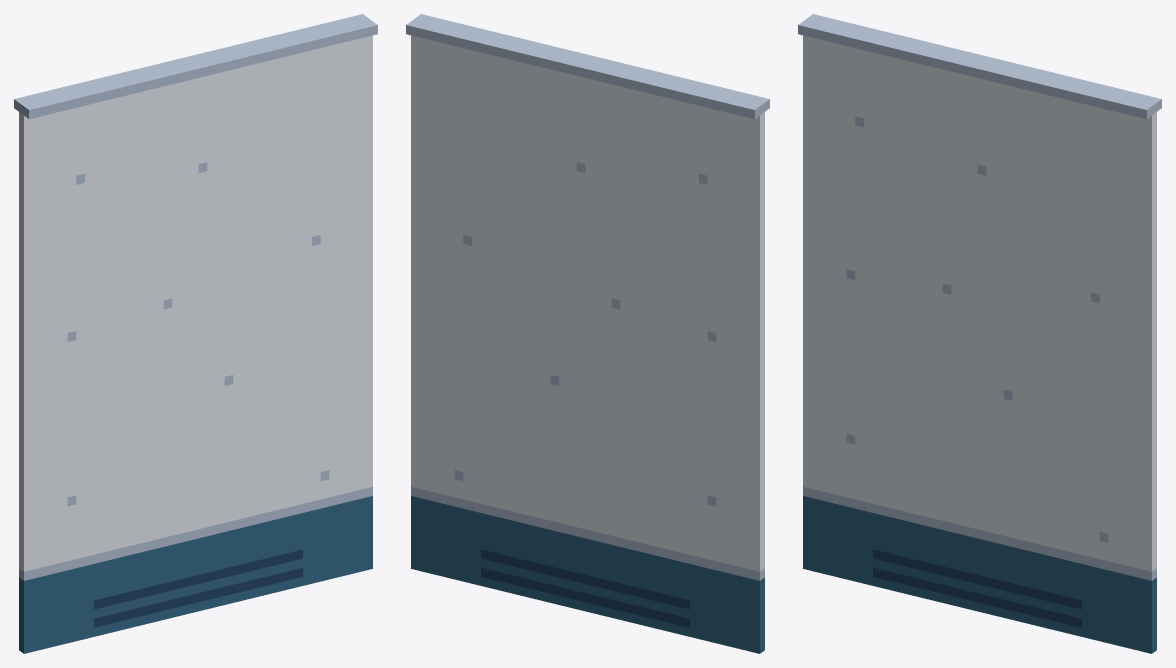
Rendered from wall.obj.
3 renders of one model, left to right at view 1: azimuth 30°, elevation 25°; view 2: azimuth 150°, elevation 25°; view 3: azimuth 330°, elevation 25°, orthographic.
Size of the model in its own units: 4 by 6 by 0.3.
1 material, 1 textured.
